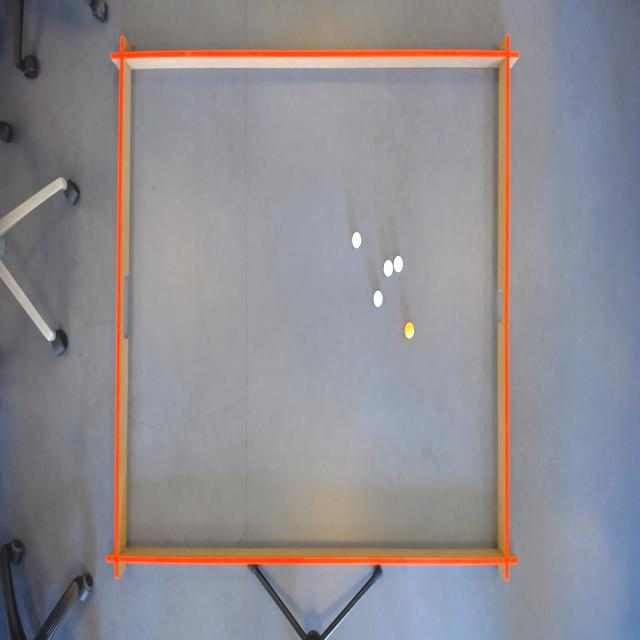orange_ball: (404, 319, 416, 343)
white_ball: (372, 287, 385, 312), (351, 229, 363, 253), (382, 257, 395, 279), (393, 253, 405, 275)
